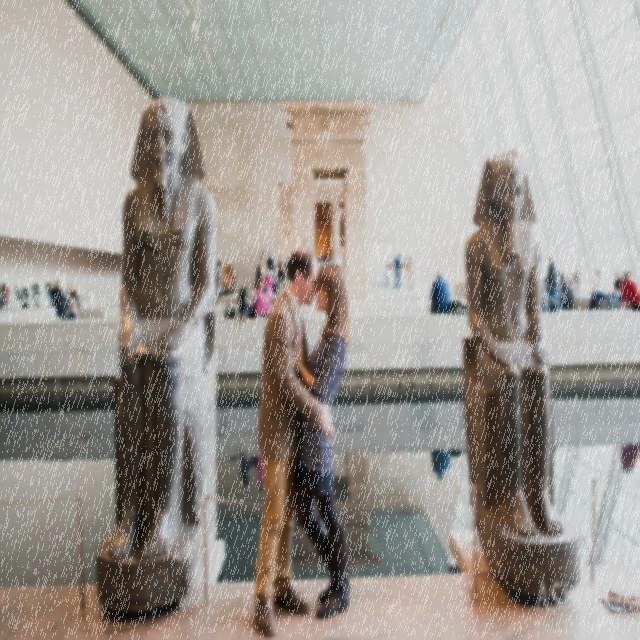pessoa: (108, 93, 215, 564), (249, 243, 335, 638), (462, 145, 552, 506), (295, 258, 353, 620), (502, 505, 566, 537), (226, 452, 268, 494), (428, 446, 466, 482), (428, 269, 451, 314), (543, 255, 561, 311), (587, 269, 607, 319), (256, 250, 276, 295), (614, 443, 640, 477), (606, 268, 624, 317), (620, 270, 640, 313), (252, 276, 270, 321), (237, 286, 257, 326), (50, 278, 66, 320), (264, 250, 278, 295), (324, 252, 338, 295), (328, 248, 340, 290), (65, 281, 80, 314), (276, 254, 286, 296), (214, 260, 223, 298), (66, 292, 78, 320), (393, 251, 402, 288), (574, 263, 582, 296), (566, 273, 576, 299), (47, 278, 55, 308), (558, 270, 568, 292), (20, 286, 30, 308), (284, 256, 290, 288), (32, 284, 40, 308), (317, 252, 327, 267), (0, 280, 5, 292)
